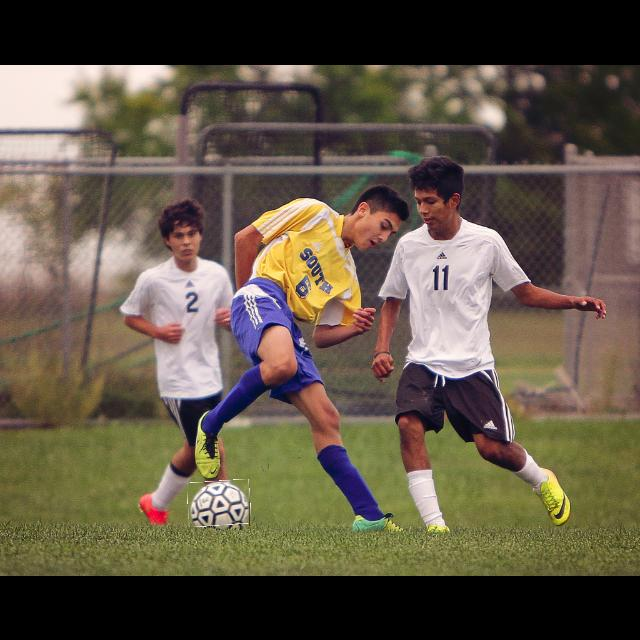Football: (188, 480, 250, 526)
